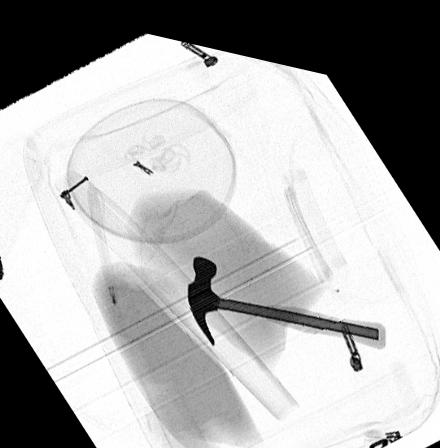Hammer: (186, 247, 386, 337)
